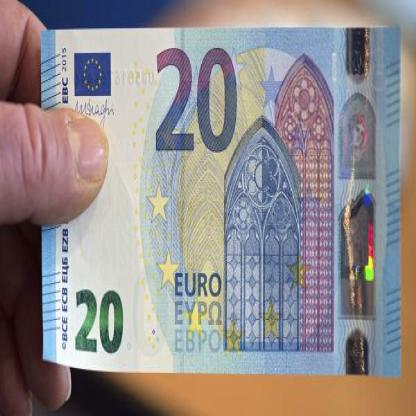euro_banknote: (42, 29, 403, 379)
